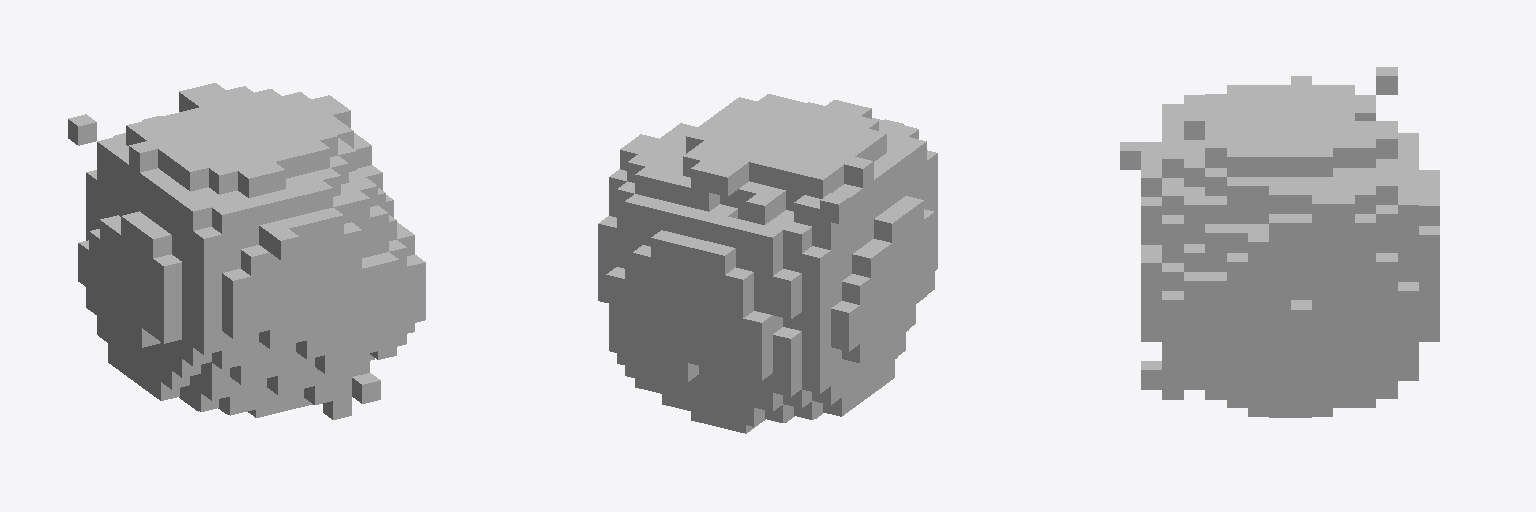
Rendered from Potato.obj.
The picture shows the model from 3 angles: view 1: azimuth 30°, elevation 25°; view 2: azimuth 150°, elevation 25°; view 3: azimuth 270°, elevation 25°; orthographic projection.
Visible parts, largest first — view 1: object 1; view 2: object 1; view 3: object 1.
Part boxes in pixels (x1,y1,x2,y2): object 1: (68, 83, 425, 419); object 1: (598, 94, 937, 433); object 1: (1120, 67, 1439, 417).
Size of the model in its own units: 1.4 by 1.3 by 1.5.